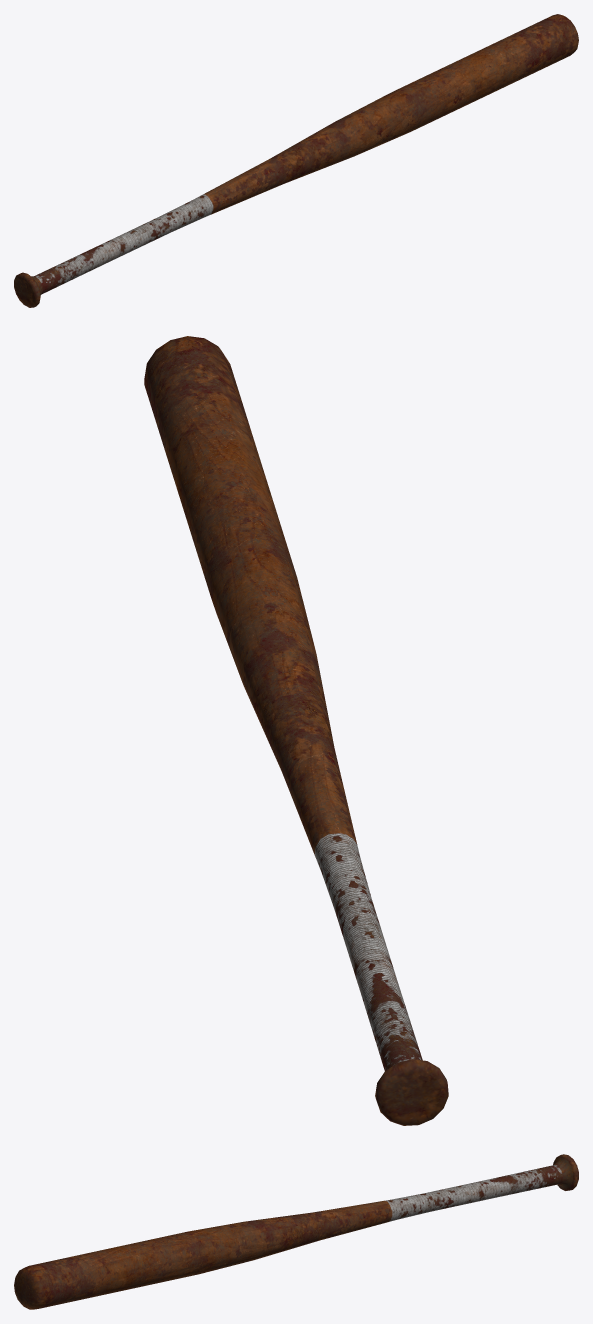
Rendered from Anim_idle_bate_objetos.0053.obj.
3 views of the same model, one above another, from view 1: azimuth 90°, elevation 25°; view 2: azimuth 150°, elevation 25°; view 3: azimuth 270°, elevation 25° (orthographic). The views are drawn at different scales.
Parts seen in each view (by area): view 1: Bate1; view 2: Bate1; view 3: Bate1.
Part boxes in pixels (left/top/right/bottom): Bate1: left=14, top=14, right=578, bottom=307; Bate1: left=144, top=336, right=448, bottom=1125; Bate1: left=14, top=1154, right=578, bottom=1309.
Size of the model in its own units: 3.56 by 0.8844 by 4.26.
